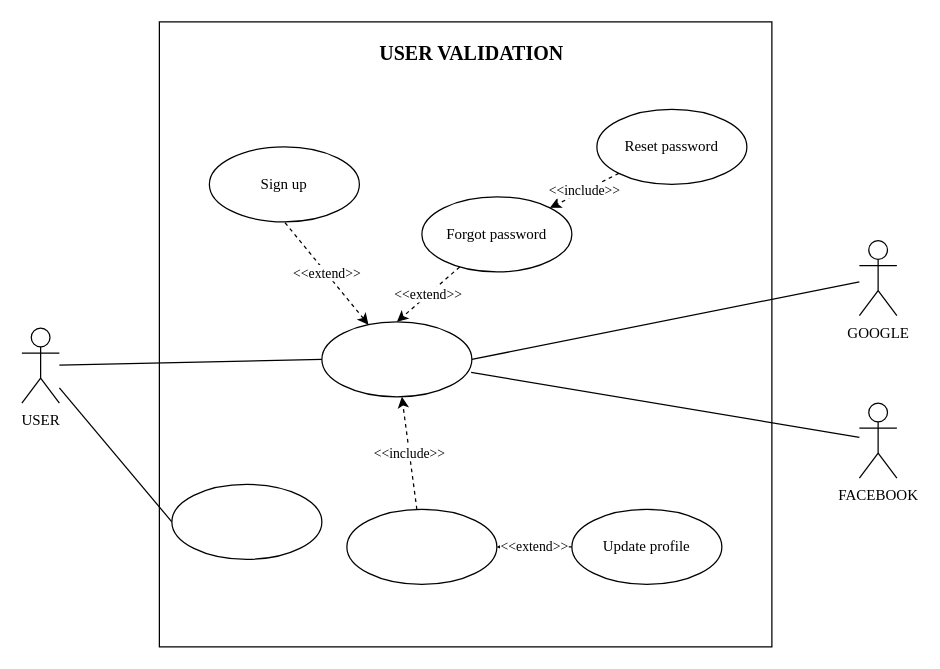
Some shapes in this 940 by 669 pixel diagram are drawn without their labels. The box of each missing label's shape, as (x1, y1, x2, y2) in pixels:
Log out: (171, 483, 322, 559)
Sign in: (321, 321, 472, 397)
View profile: (346, 508, 497, 584)
